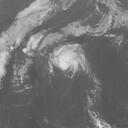cyclone: (50, 41, 86, 76)
